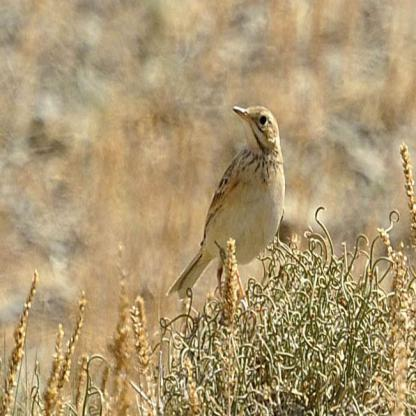Burung: (163, 104, 284, 301)
